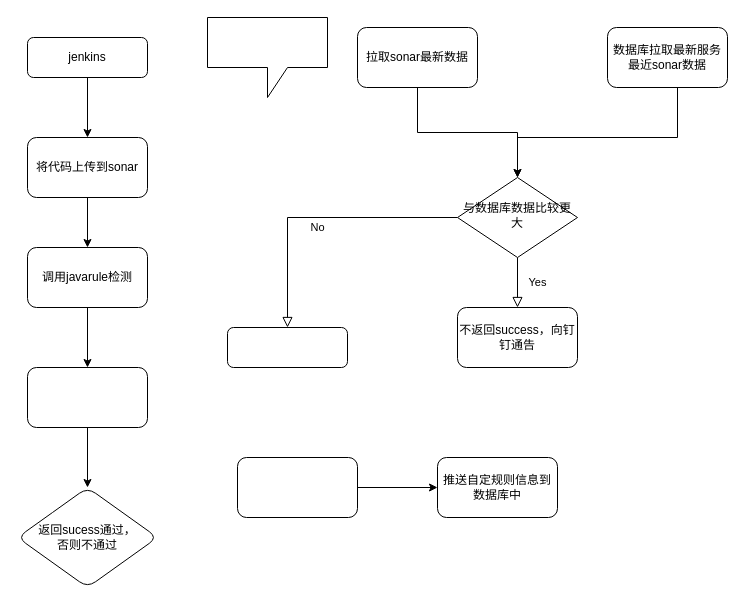
This 745x605 diagram has some shape labels left out. Each missing label, with the centre of its shape:
"java-rule" belongs at [297,487].
"代码检测流程" belongs at [267,57].
"调用monitor-platform的snoar检测" belongs at [87,397].
"返回success,将此次数据存入表中" belongs at [287,347].
